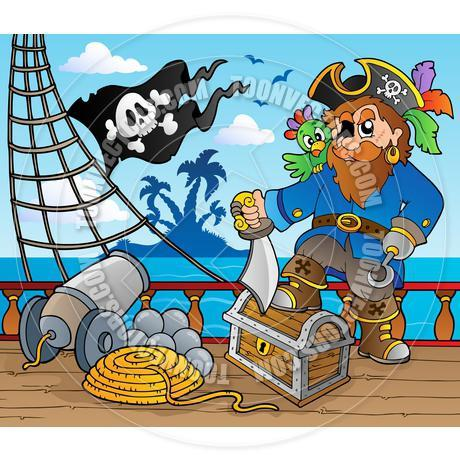bird: (282, 105, 327, 174)
person: (267, 55, 421, 370)
